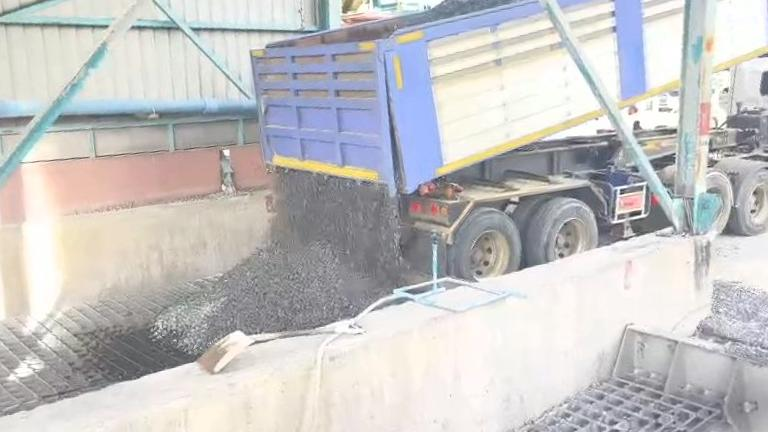gravel: (153, 171, 404, 353), (696, 281, 768, 378), (391, 0, 533, 29)
